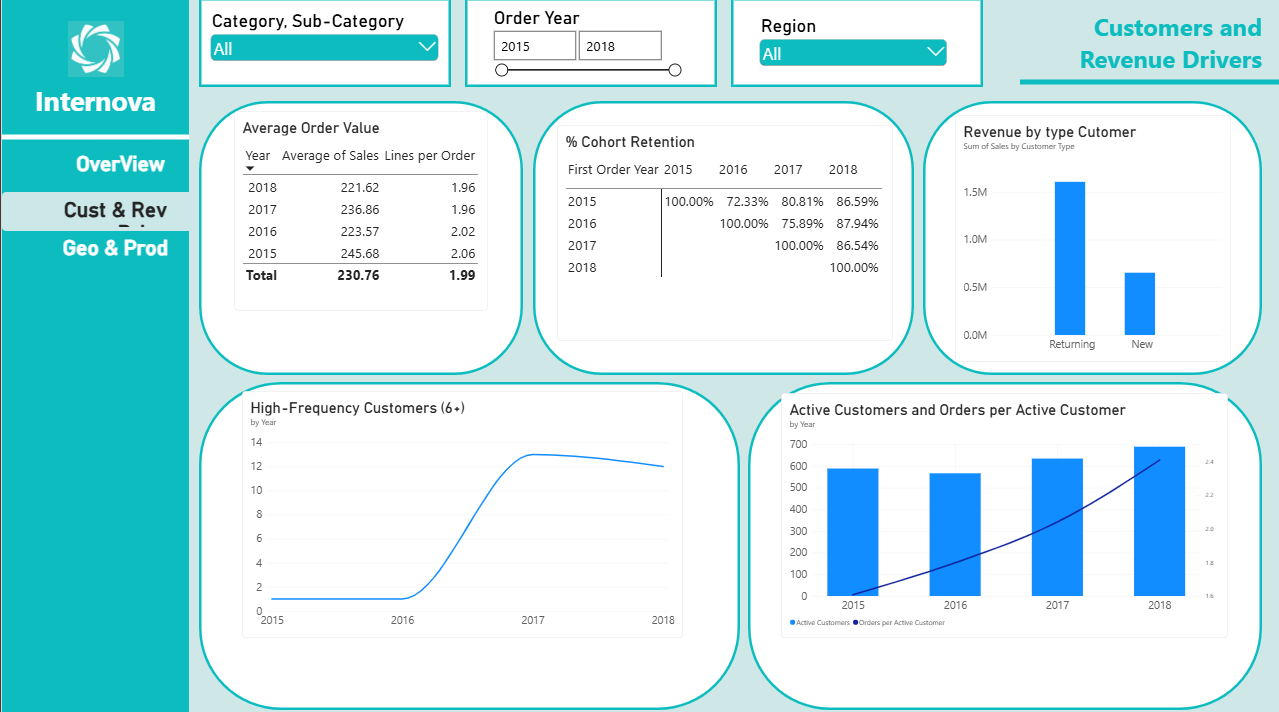

What the dashboard file says about the page in this screenshot:
{"tool":"powerbi","page":{"name":"Customer & REvenue drivers","canvas":[2560,1440],"ordinal":1},"visuals":[{"type":"shape","box":[0,0,374,1440],"z":0},{"type":"textbox","box":[0,168,374,112],"z":1000},{"type":"shape","box":[0,240,374,76],"z":2000},{"type":"shape","box":[394,0,504,178],"z":3000},{"type":"slicer","fields":{"Values":["superstore_clean.Category","superstore_clean.Sub-Category"]},"box":[412,24,466,132],"z":4000},{"type":"image","box":[124,46,128.3,111.7],"z":5000},{"type":"shape","box":[0,388,380,78],"z":6000},{"type":"actionButton","title":"OverView","box":[18,306,308,60],"z":7000},{"type":"actionButton","title":"Cust & Rev Drivs","box":[16,398,314,60],"z":8000},{"type":"actionButton","title":"Geo & Prod","box":[14,474,318,60],"z":9000},{"type":"shape","box":[926,0,504,178],"z":10000},{"type":"shape","box":[1458,0,504,178],"z":11000},{"type":"slicer","title":"Year","fields":{"Values":["superstore_clean.Order Year"]},"box":[976,18,386,232],"z":12000},{"type":"slicer","fields":{"Values":["superstore_clean.Region"]},"box":[1510,34,385,111.7],"z":13000},{"type":"textbox","box":[2110,24,410,132],"z":14000},{"type":"shape","box":[2036,130,524,76],"z":15000},{"type":"shape","box":[394,768,1082,656],"z":16000},{"type":"shape","box":[1842,206,678,548],"z":17000},{"type":"shape","box":[1062,206,762,548],"z":18000},{"type":"shape","box":[1492,768,1028,656],"z":19000},{"type":"columnChart","title":"Revenue by type Cutomer","fields":{"Category":["superstore_clean.Customer Type"],"Y":["Sum(superstore_clean.Sales)"]},"box":[1906,234,552,494],"z":20000},{"type":"pivotTable","title":"% Cohort Retention","fields":{"Columns":["superstore_clean.Order Date.Variation.Date Hierarchy.Year"],"Rows":["superstore_clean.First Order Year"],"Values":["superstore_clean.Retention %"]},"box":[1110,254,672,432],"z":21000},{"type":"lineChart","fields":{"Category":["superstore_clean.Order Date.Variation.Date Hierarchy.Year"],"Y":["superstore_clean.High-Frequency Customers (6+)"]},"box":[480,786,882,494],"z":22000},{"type":"shape","box":[394,206,648,548],"z":23000},{"type":"tableEx","title":"Average Order Value","fields":{"Values":["superstore_clean.Order Date.Variation.Date Hierarchy.Year","Avg(superstore_clean.Sales)","superstore_clean.Lines per Order"]},"box":[464,226,507.1,398.6],"z":24000},{"type":"lineClusteredColumnComboChart","fields":{"Category":["superstore_clean.Order Date.Variation.Date Hierarchy.Year"],"Y":["superstore_clean.Active Customers"],"Y2":["superstore_clean.Orders per Active Customer"]},"box":[1558,790,894,490],"z":25000}]}

Visuals, with their boxes on the page's 2560x1440 design canvas (x1, y1, x2, y2). These are canvas units, not pixel positions in the 1279x712 screenshot, which may show the page scaled, cropped or inside an application window:
shape: [left=0, top=0, right=374, bottom=1440]
textbox: [left=0, top=168, right=374, bottom=280]
shape: [left=0, top=240, right=374, bottom=316]
shape: [left=394, top=0, right=898, bottom=178]
slicer - superstore_clean.Category x superstore_clean.Sub-Category: [left=412, top=24, right=878, bottom=156]
image: [left=124, top=46, right=252, bottom=158]
shape: [left=0, top=388, right=380, bottom=466]
"OverView" actionButton: [left=18, top=306, right=326, bottom=366]
"Cust & Rev Drivs" actionButton: [left=16, top=398, right=330, bottom=458]
"Geo & Prod" actionButton: [left=14, top=474, right=332, bottom=534]
shape: [left=926, top=0, right=1430, bottom=178]
shape: [left=1458, top=0, right=1962, bottom=178]
"Year" slicer: [left=976, top=18, right=1362, bottom=250]
slicer - superstore_clean.Region: [left=1510, top=34, right=1895, bottom=146]
textbox: [left=2110, top=24, right=2520, bottom=156]
shape: [left=2036, top=130, right=2560, bottom=206]
shape: [left=394, top=768, right=1476, bottom=1424]
shape: [left=1842, top=206, right=2520, bottom=754]
shape: [left=1062, top=206, right=1824, bottom=754]
shape: [left=1492, top=768, right=2520, bottom=1424]
"Revenue by type Cutomer" columnChart: [left=1906, top=234, right=2458, bottom=728]
"% Cohort Retention" pivotTable: [left=1110, top=254, right=1782, bottom=686]
lineChart - superstore_clean.Order Date.Variation.Date Hierarchy.Year x superstore_clean.High-Frequency Customers (6+): [left=480, top=786, right=1362, bottom=1280]
shape: [left=394, top=206, right=1042, bottom=754]
"Average Order Value" tableEx: [left=464, top=226, right=971, bottom=625]
lineClusteredColumnComboChart - superstore_clean.Order Date.Variation.Date Hierarchy.Year x superstore_clean.Active Customers: [left=1558, top=790, right=2452, bottom=1280]
